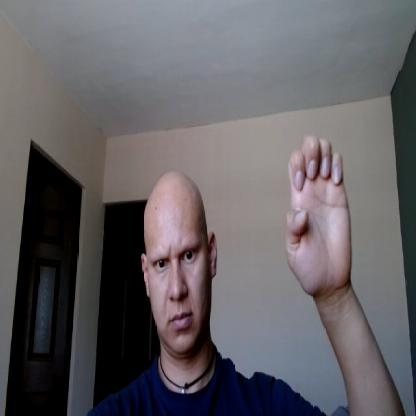E: (283, 137, 353, 289)
